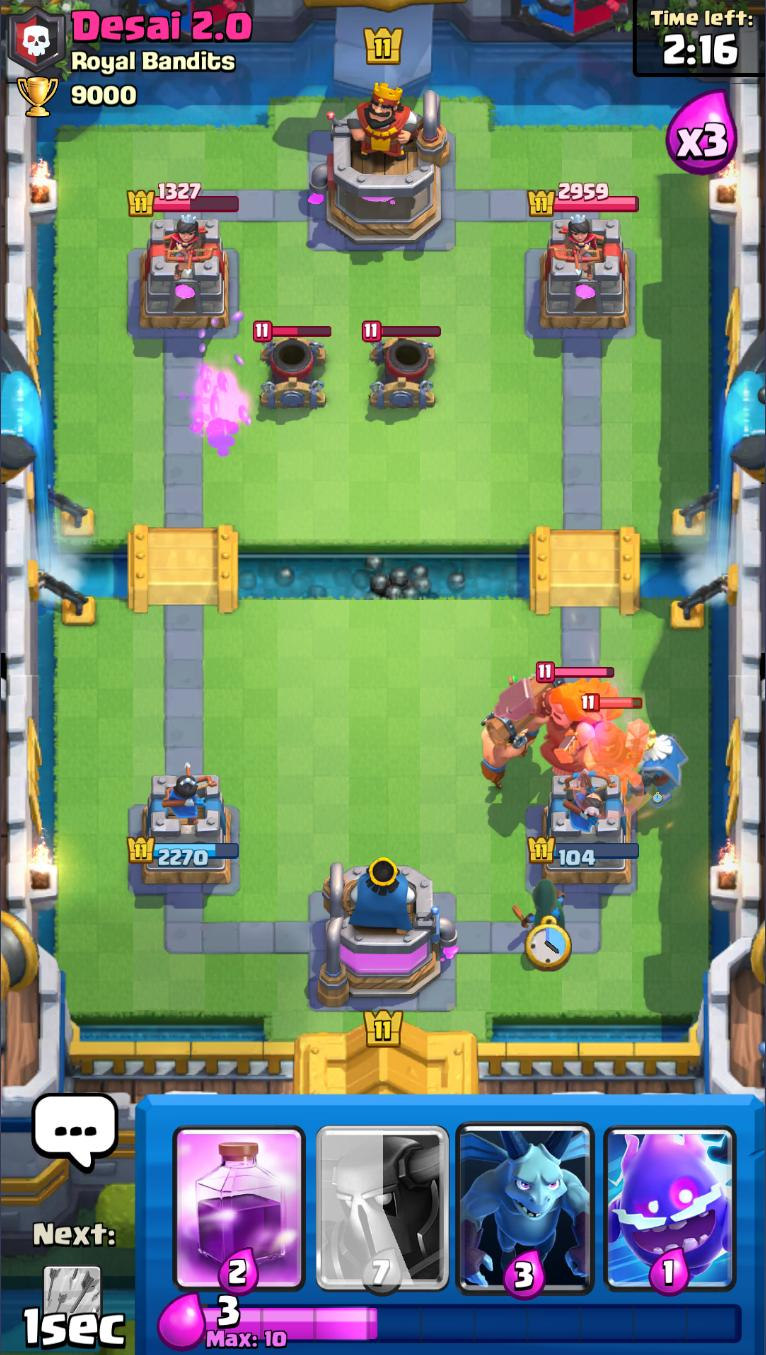ArrowNext: (41, 1262, 105, 1343)
DarkPrince: (581, 692, 649, 794)
ElectroSpiritDeck: (597, 1097, 742, 1298)
Elixir: (203, 1296, 744, 1351)
EnemyTower: (135, 216, 234, 331), (537, 216, 633, 333)
KingTower: (307, 78, 453, 247)
MinionsDeck: (455, 1099, 598, 1295)
Mortar: (251, 318, 333, 412), (362, 319, 442, 413)
MyBandit: (512, 881, 567, 936)
MyBattleRam: (478, 669, 563, 792)
MyKingTower: (315, 859, 460, 1009)
MyPrincessTower: (526, 770, 641, 890), (128, 772, 242, 890)
MyPrincessTowerHP: (127, 836, 241, 869), (525, 835, 641, 867)
MyRoyaleGhost: (626, 723, 686, 803)
PekkaDeck: (312, 1101, 453, 1296)
RageDeck: (166, 1096, 312, 1295)
RuneGiant: (492, 663, 624, 772)
TowerPrincessHP: (528, 182, 640, 219), (128, 182, 241, 218)
